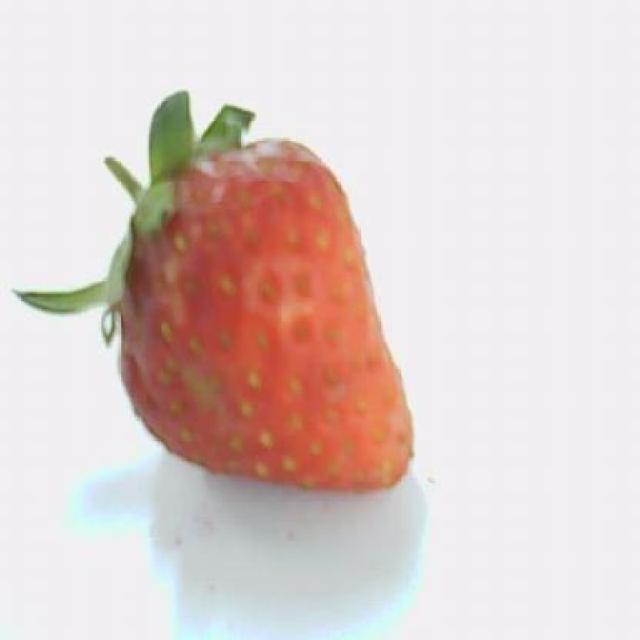strawberry: (18, 91, 412, 491)
